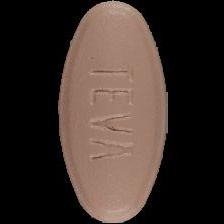61919-992: (0, 0, 224, 224)
